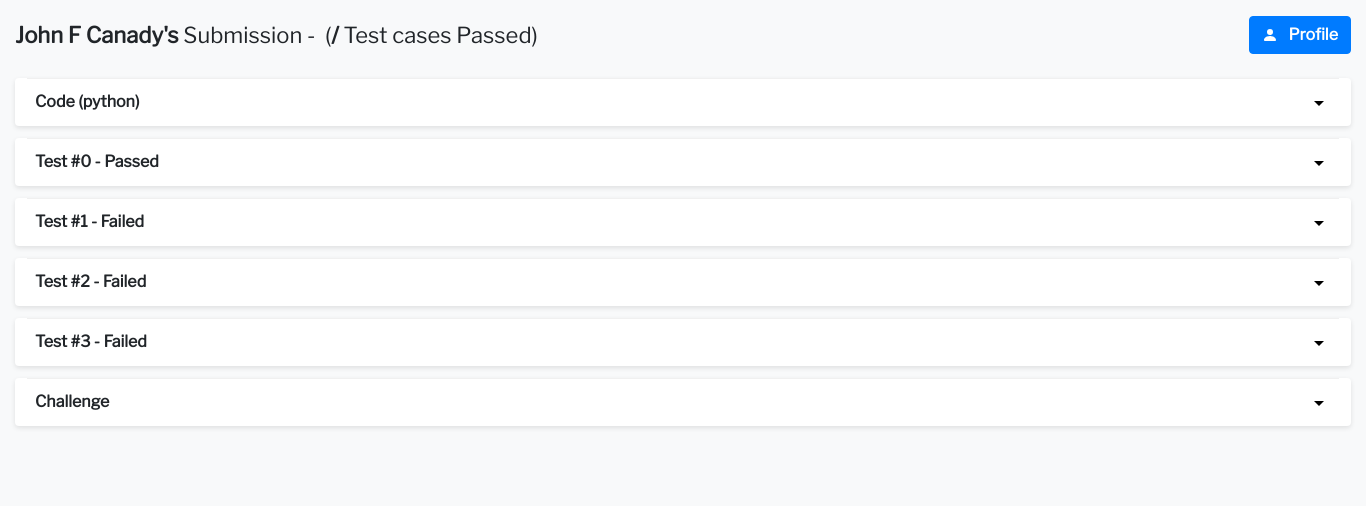
coding submission › should show submission
This screenshot has width=1366, height=506.
What coordinates should you click on to do the following:
click the element with class "imprs-container-main-hdr" showing "Code (python)"
I would click on:
 (683, 102)
Its box is [27,78,1339,126].
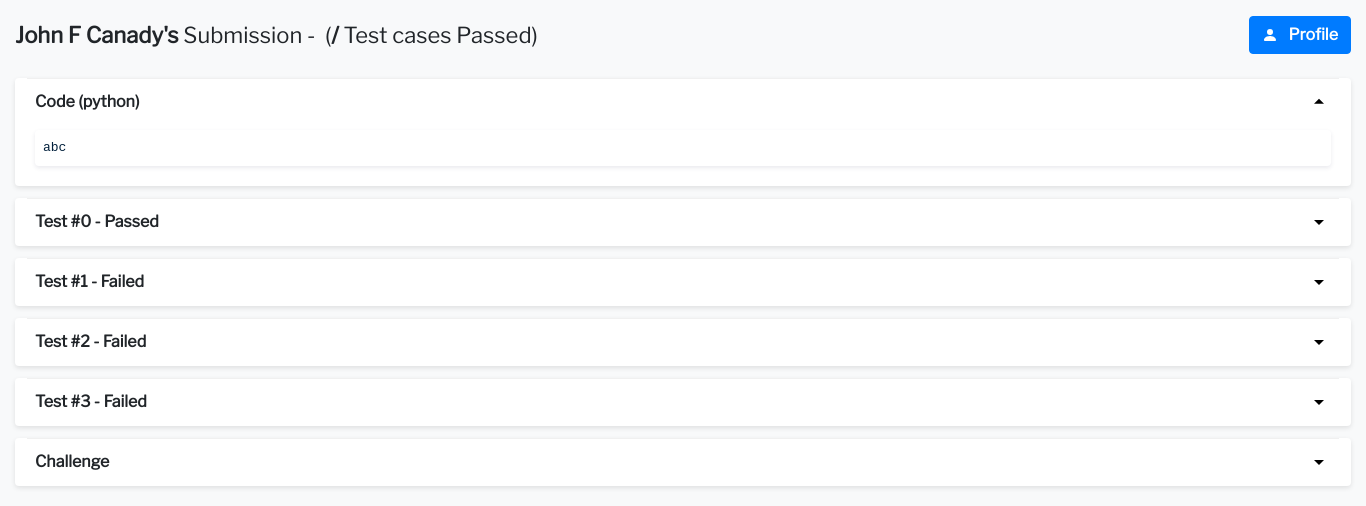
Check: the element with class "imprs-container-main-data" is shown, box [35,130,1331,166]
